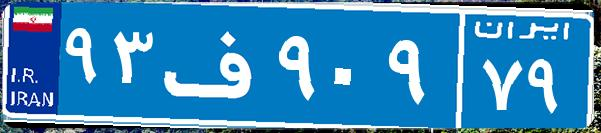0: (330, 28, 385, 110)
3: (110, 28, 158, 105)
7: (475, 38, 525, 113)
9: (385, 28, 445, 110), (273, 28, 330, 110), (57, 26, 110, 107), (525, 38, 570, 115)
ف: (158, 15, 273, 115)
